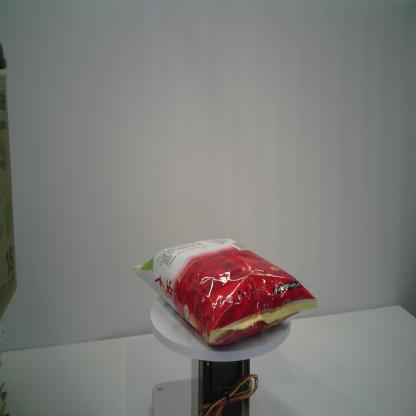Puffed Food: (132, 233, 319, 350)
